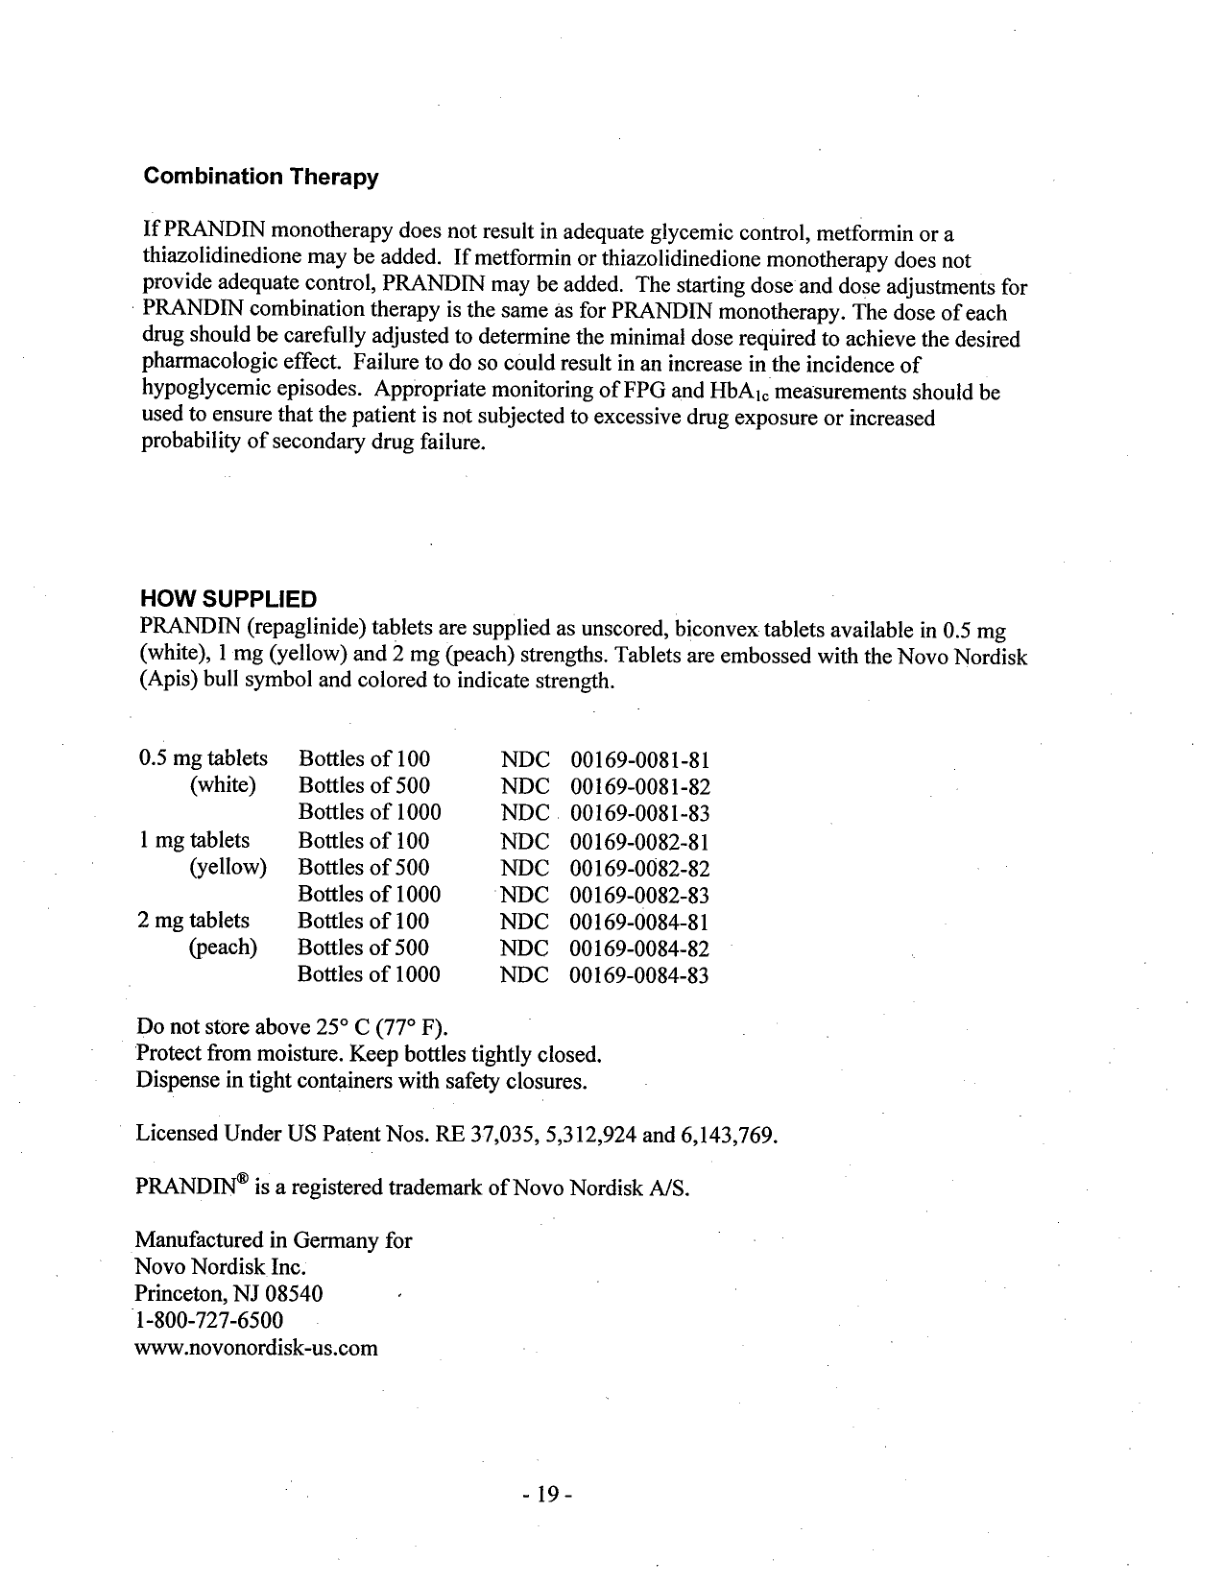nolines: (139, 744, 716, 990)
